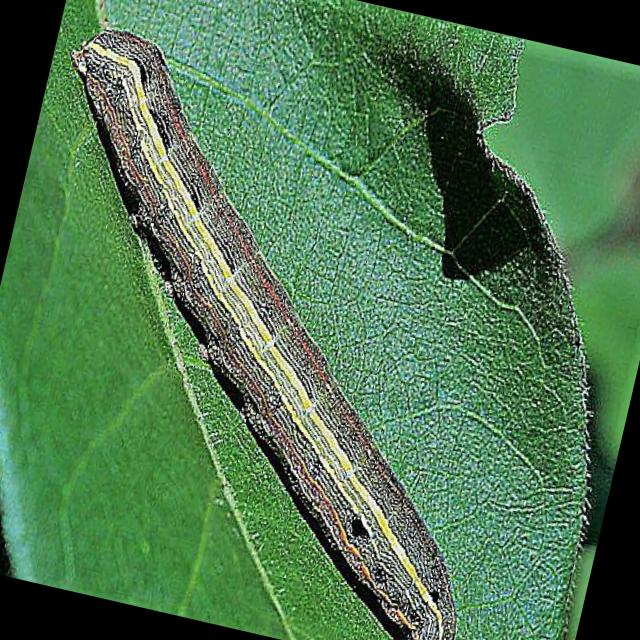Armyworm: (1, 1, 585, 640)
